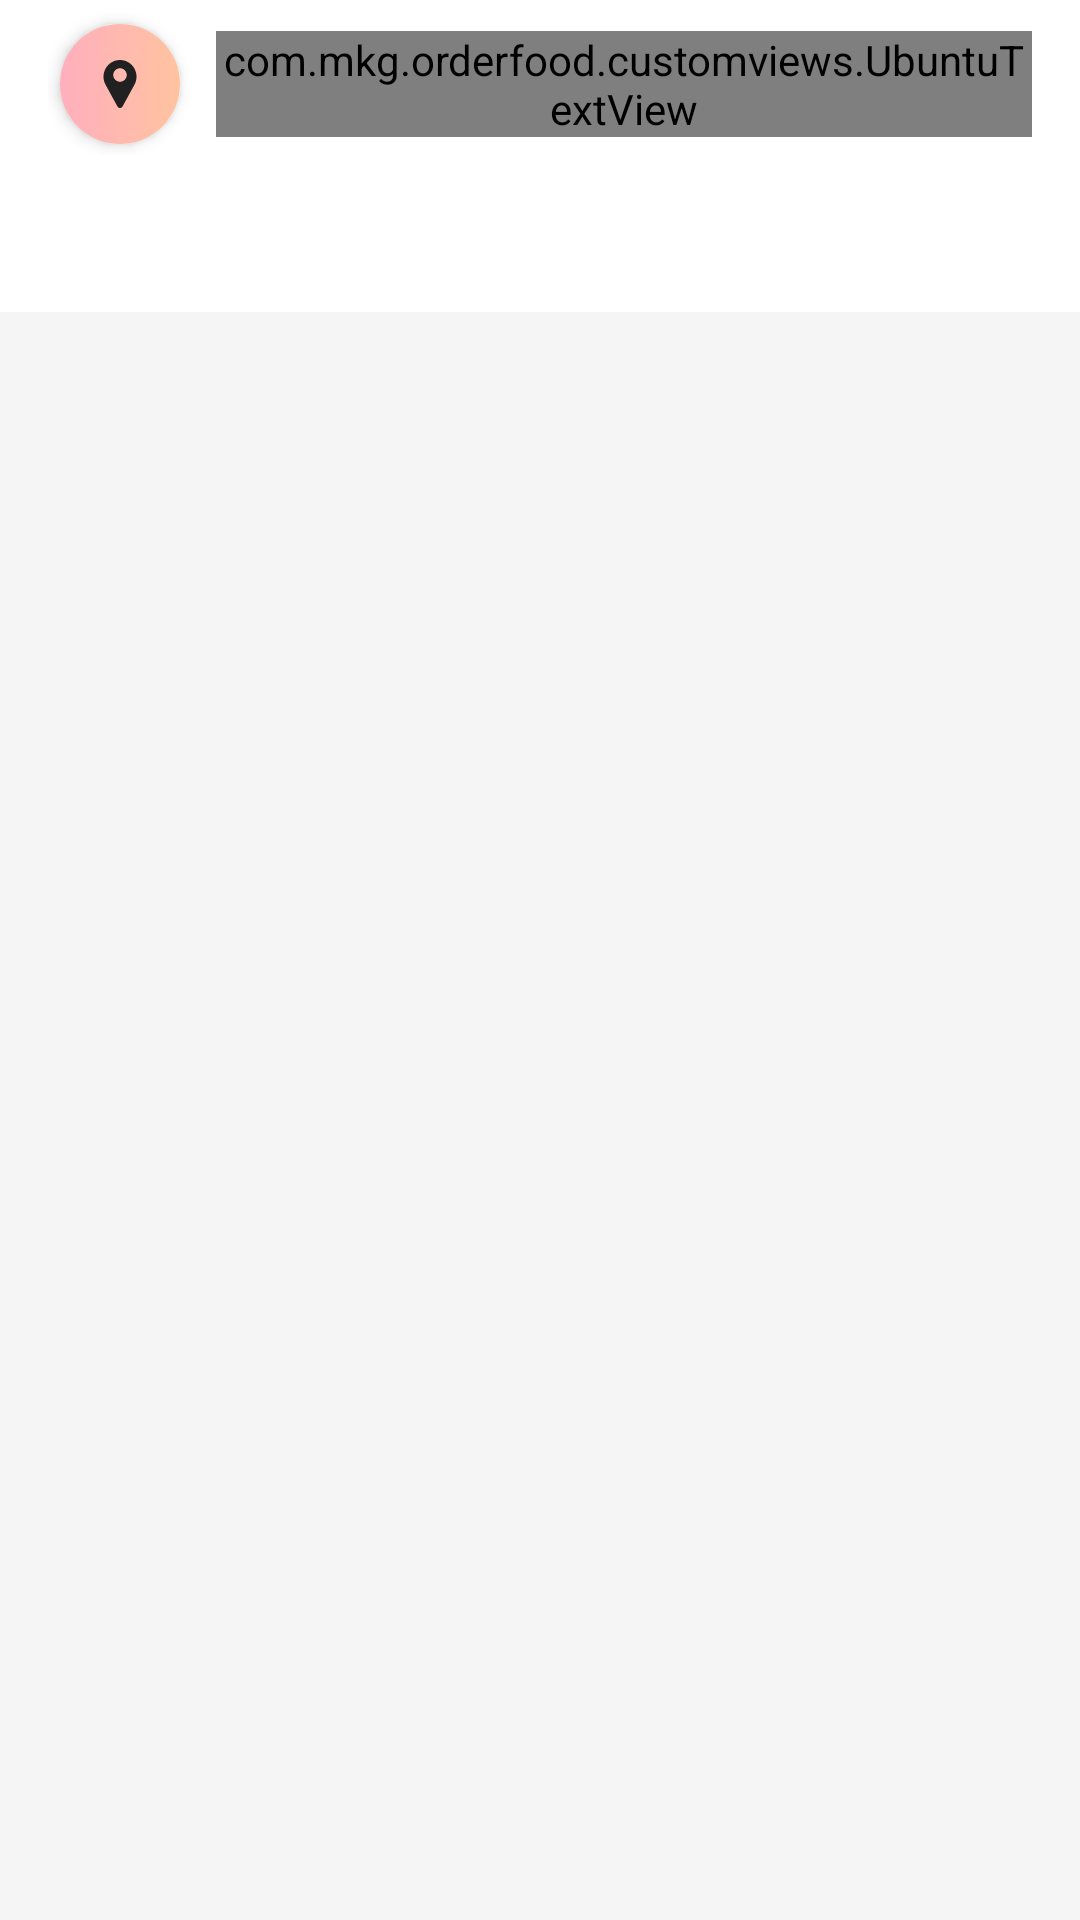

Screen size 1080 x 1920. Icon name, then its box in pixels as (x1, y1, x2, y2):
location: (60, 24, 180, 144)
